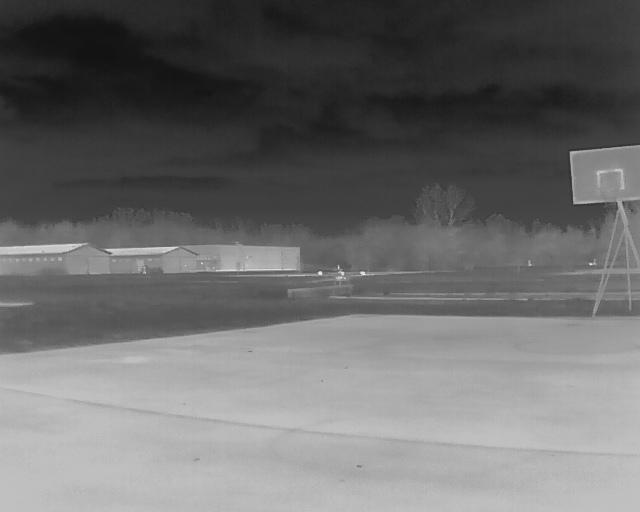drone: (307, 261, 374, 301)
